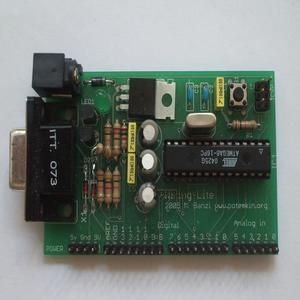duino: (20, 41, 280, 256)
